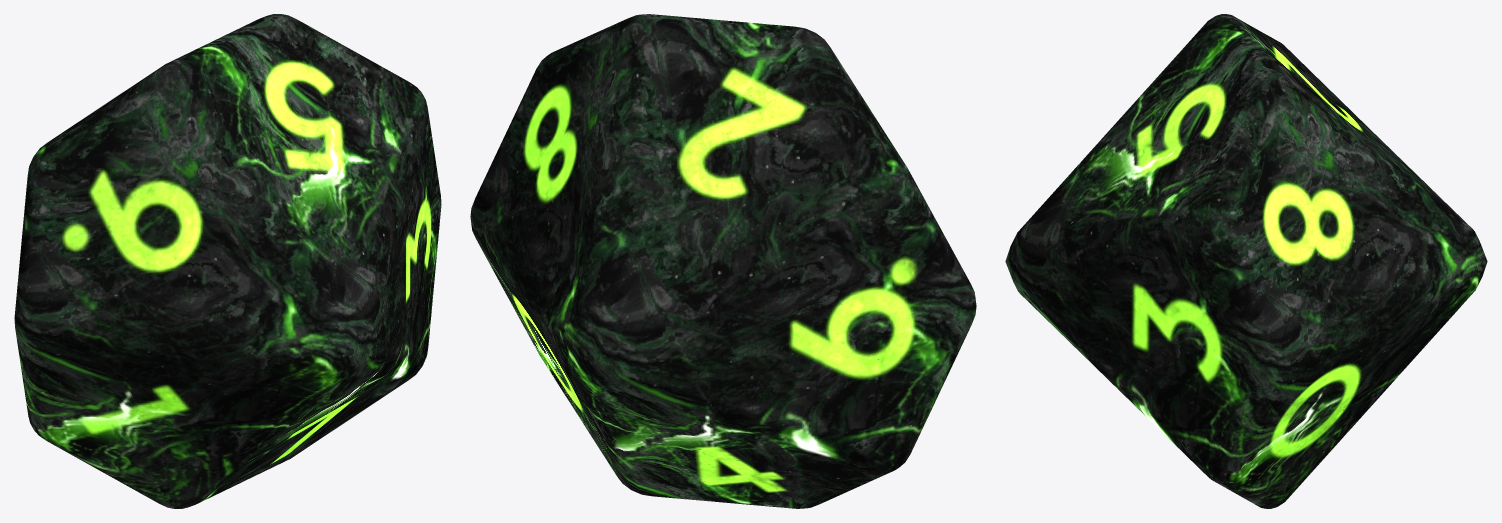
3 views of the same model, side by side, from view 1: azimuth 30°, elevation 25°; view 2: azimuth 150°, elevation 25°; view 3: azimuth 270°, elevation 25° (orthographic). The views are drawn at different scales.
Visible parts, largest first — view 1: dice_10; view 2: dice_10; view 3: dice_10.
Boxes of the visible parts, x1,y1,x2,y2 form: dice_10: [14, 14, 441, 508]; dice_10: [470, 14, 976, 508]; dice_10: [1005, 14, 1487, 508].
Bounding box in the file's own units: 171 × 164 × 165.
1 material, 1 textured.
